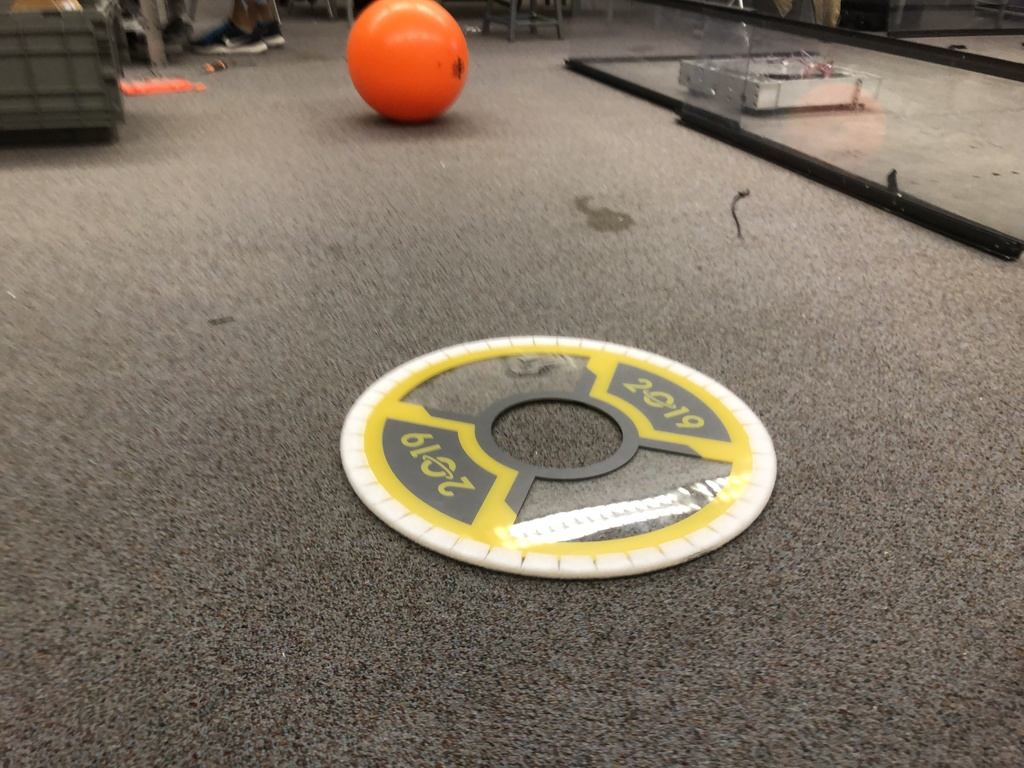hatch_panel: (324, 322, 809, 593)
